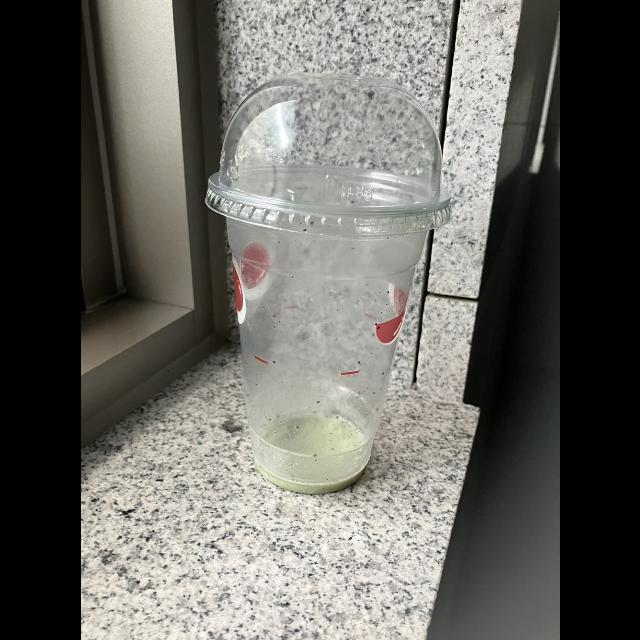plastic_cup: (203, 72, 451, 496)
plastic_cup_lid: (205, 72, 452, 236)
